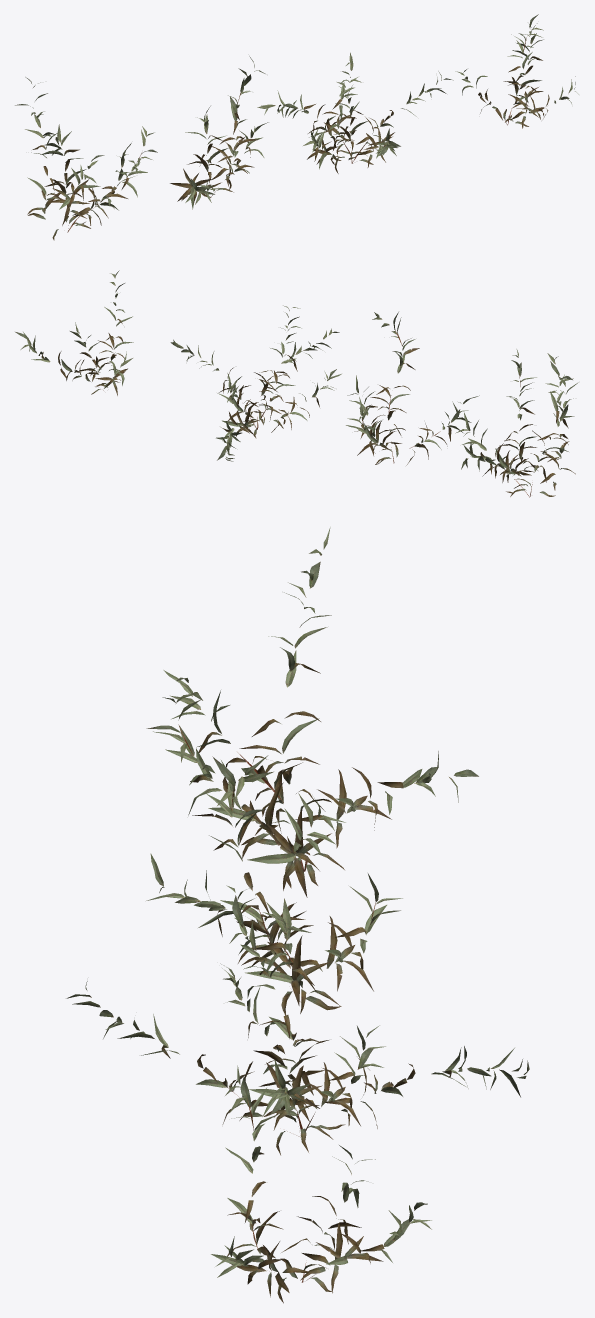
Rendered from shrub_02.glb.
3 renders of one model, top to bottom at view 1: azimuth 30°, elevation 25°; view 2: azimuth 150°, elevation 25°; view 3: azimuth 270°, elevation 25°, orthographic. The views are drawn at different scales.
Parts seen in each view (by area): view 1: shrub_02_a; view 2: shrub_02_a; view 3: shrub_02_a.
Part boxes in pixels (x1=…): shrub_02_a: x1=15, y1=14, x2=578, y2=240; shrub_02_a: x1=15, y1=270, x2=578, y2=497; shrub_02_a: x1=66, y1=527, x2=529, y2=1303.
Size of the model in its own units: 6.05 by 1.7 by 2.28.
1 material, 1 textured.
